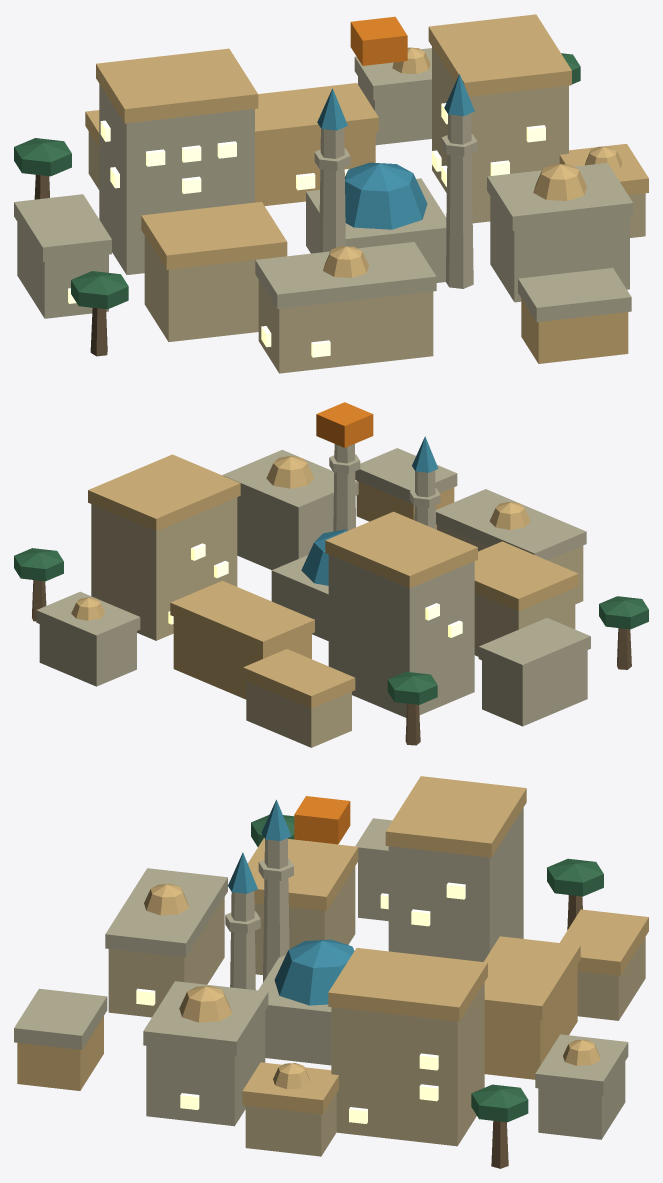
The model's file is overworld-settlement-middle-eastern-town.glb.
3 views of the same model, one above another, from view 1: azimuth 30°, elevation 25°; view 2: azimuth 150°, elevation 25°; view 3: azimuth 270°, elevation 25° (orthographic). The views are drawn at different scales.
Visible parts, largest first — view 1: settlement; view 2: settlement; view 3: settlement.
Part boxes in pixels (x1,y1,x2,y2): settlement: (14, 14, 648, 373); settlement: (14, 402, 648, 747); settlement: (14, 776, 648, 1168).
Bounding box in the file's own units: 0.5339 × 0.195 × 0.486.
